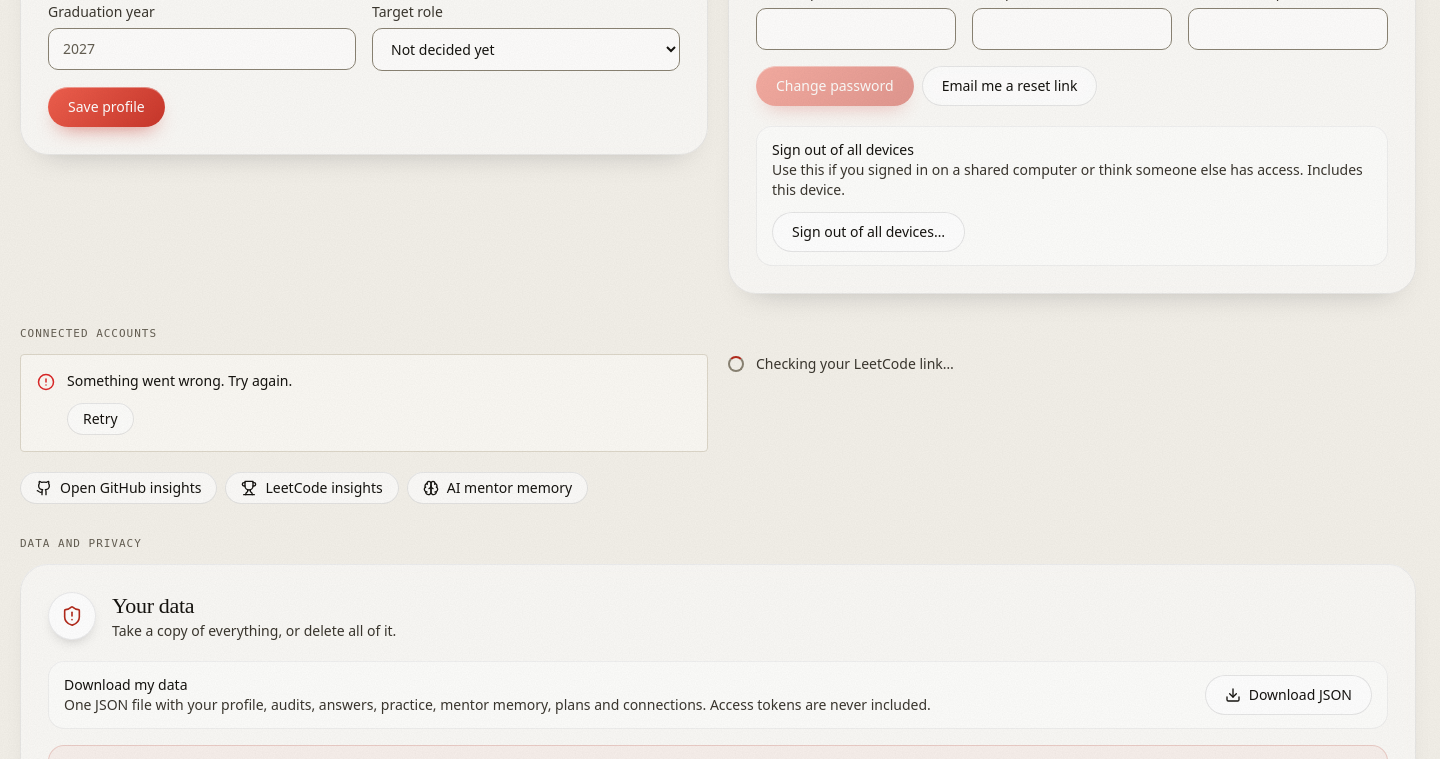
GitHub connection (settings) › shows a retryable error when the connection cannot be loaded
The width and height of the screenshot is (1440, 759).
(page scrolled)
What coordinates should you click on to do the following:
click the button "Retry"
I would click on:
 (100, 419)
Its box is [67,403,134,435].
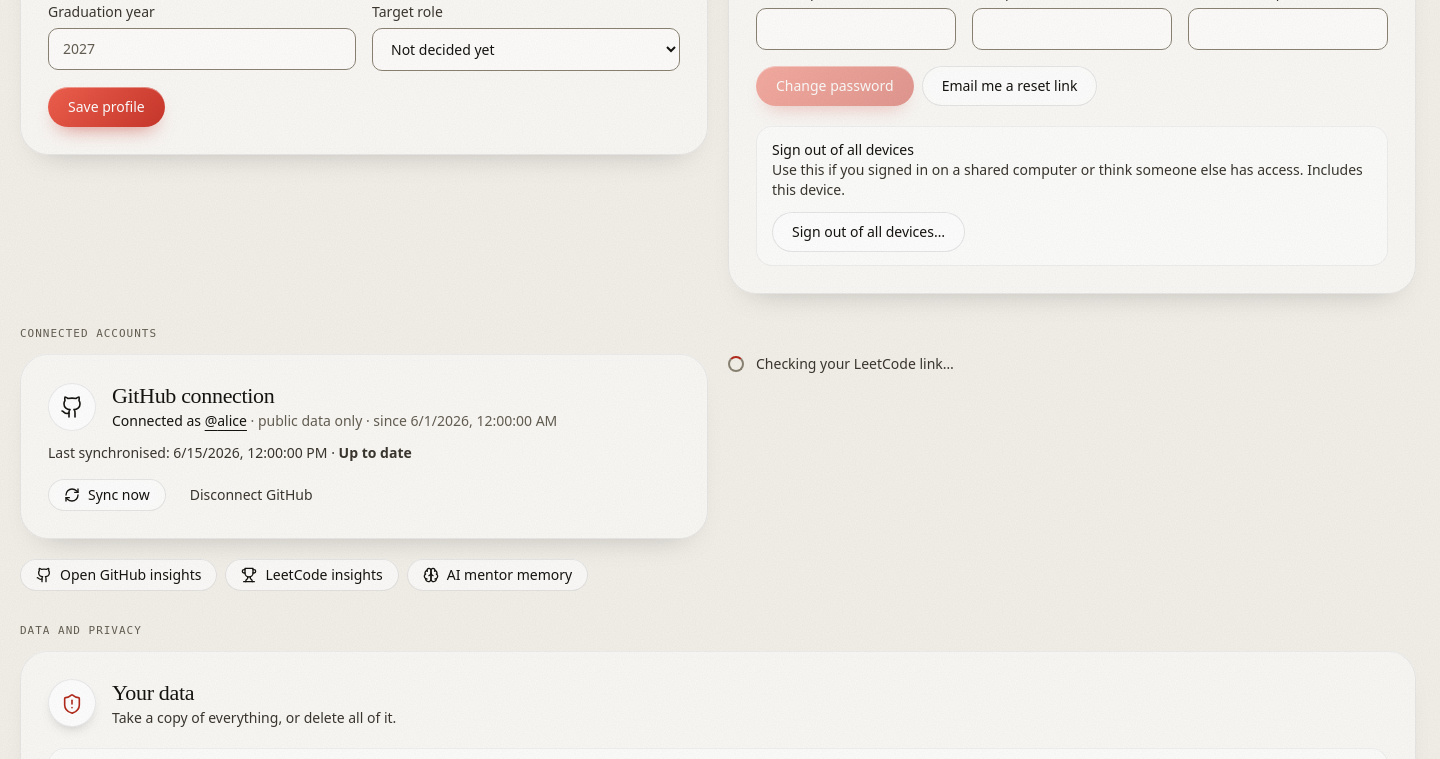
Check: the link "@alice" is shown, box [205,411,247,430]
